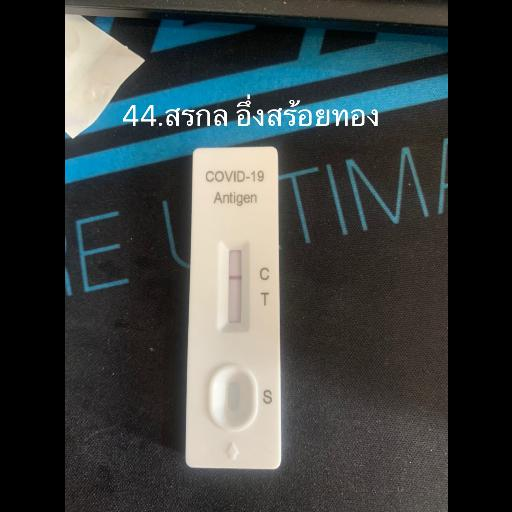Neg: (190, 148, 282, 468)
